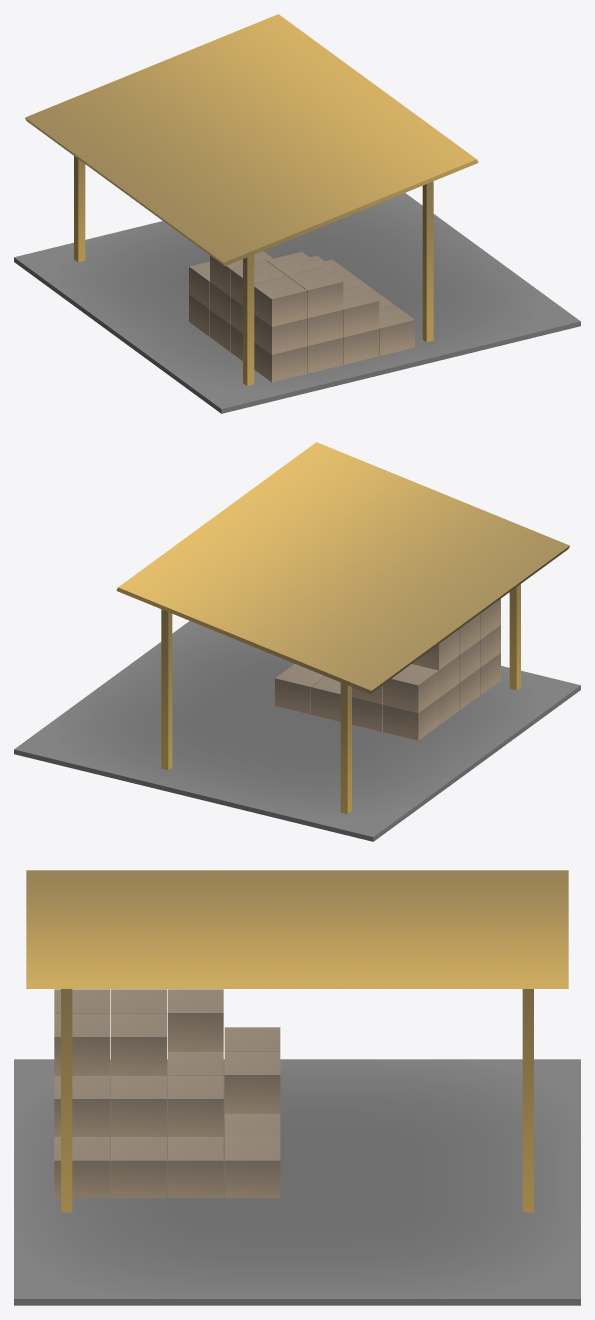
Rendered from storage1.glb.
The picture shows the model from 3 angles, top to bottom: view 1: azimuth 30°, elevation 25°; view 2: azimuth 150°, elevation 25°; view 3: azimuth 270°, elevation 25°; orthographic projection. The views are drawn at different scales.
Parts seen in each view (by area): view 1: Storage1; view 2: Storage1; view 3: Storage1.
Part boxes in pixels (x1,y1,x2,y2): Storage1: [14, 14, 580, 413]; Storage1: [14, 442, 580, 841]; Storage1: [14, 870, 580, 1305].
Bounding box in the file's own units: 4 × 2 × 4.
Materials: 1 (1 with a texture image).
